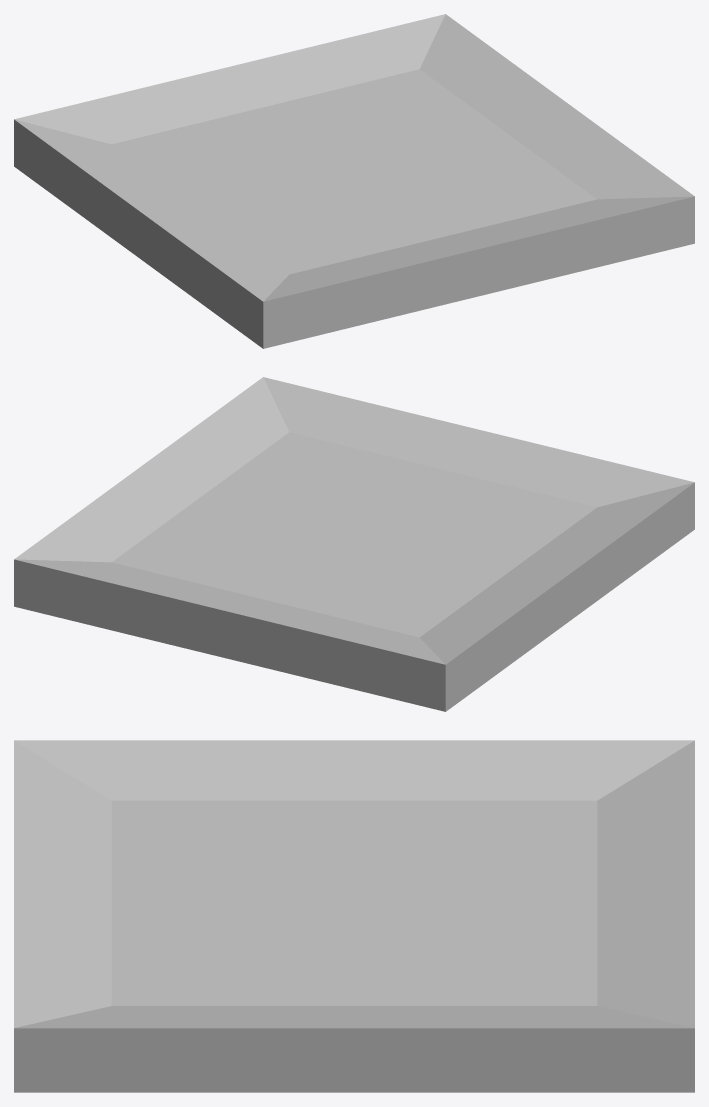
Rendered from Itr_Chair2_Seat_06.FBX.
The picture shows the model from 3 angles, top to bottom: view 1: azimuth 30°, elevation 25°; view 2: azimuth 150°, elevation 25°; view 3: azimuth 270°, elevation 25°; orthographic projection. The views are drawn at different scales.
Visible parts, largest first — view 1: Itr_Chair2_Seat_06; view 2: Itr_Chair2_Seat_06; view 3: Itr_Chair2_Seat_06.
Boxes of the visible parts, box(x1,y1,x2,y2) form: Itr_Chair2_Seat_06: box(14, 14, 694, 348); Itr_Chair2_Seat_06: box(14, 377, 694, 711); Itr_Chair2_Seat_06: box(14, 740, 694, 1092).
Bounding box in the file's own units: 14.4 × 1.96 × 14.4.
